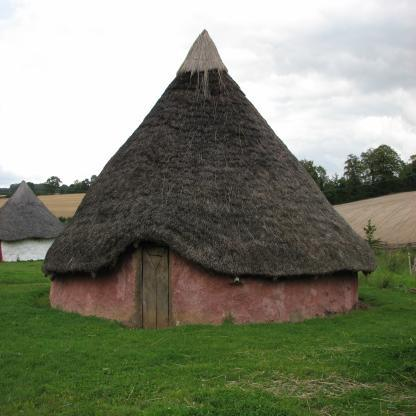Building Outline: (41, 28, 378, 330)
Door: (142, 245, 169, 330)
Facade: (64, 229, 351, 312)
Ground Floor: (49, 227, 358, 330)
Roof: (41, 28, 378, 278)
